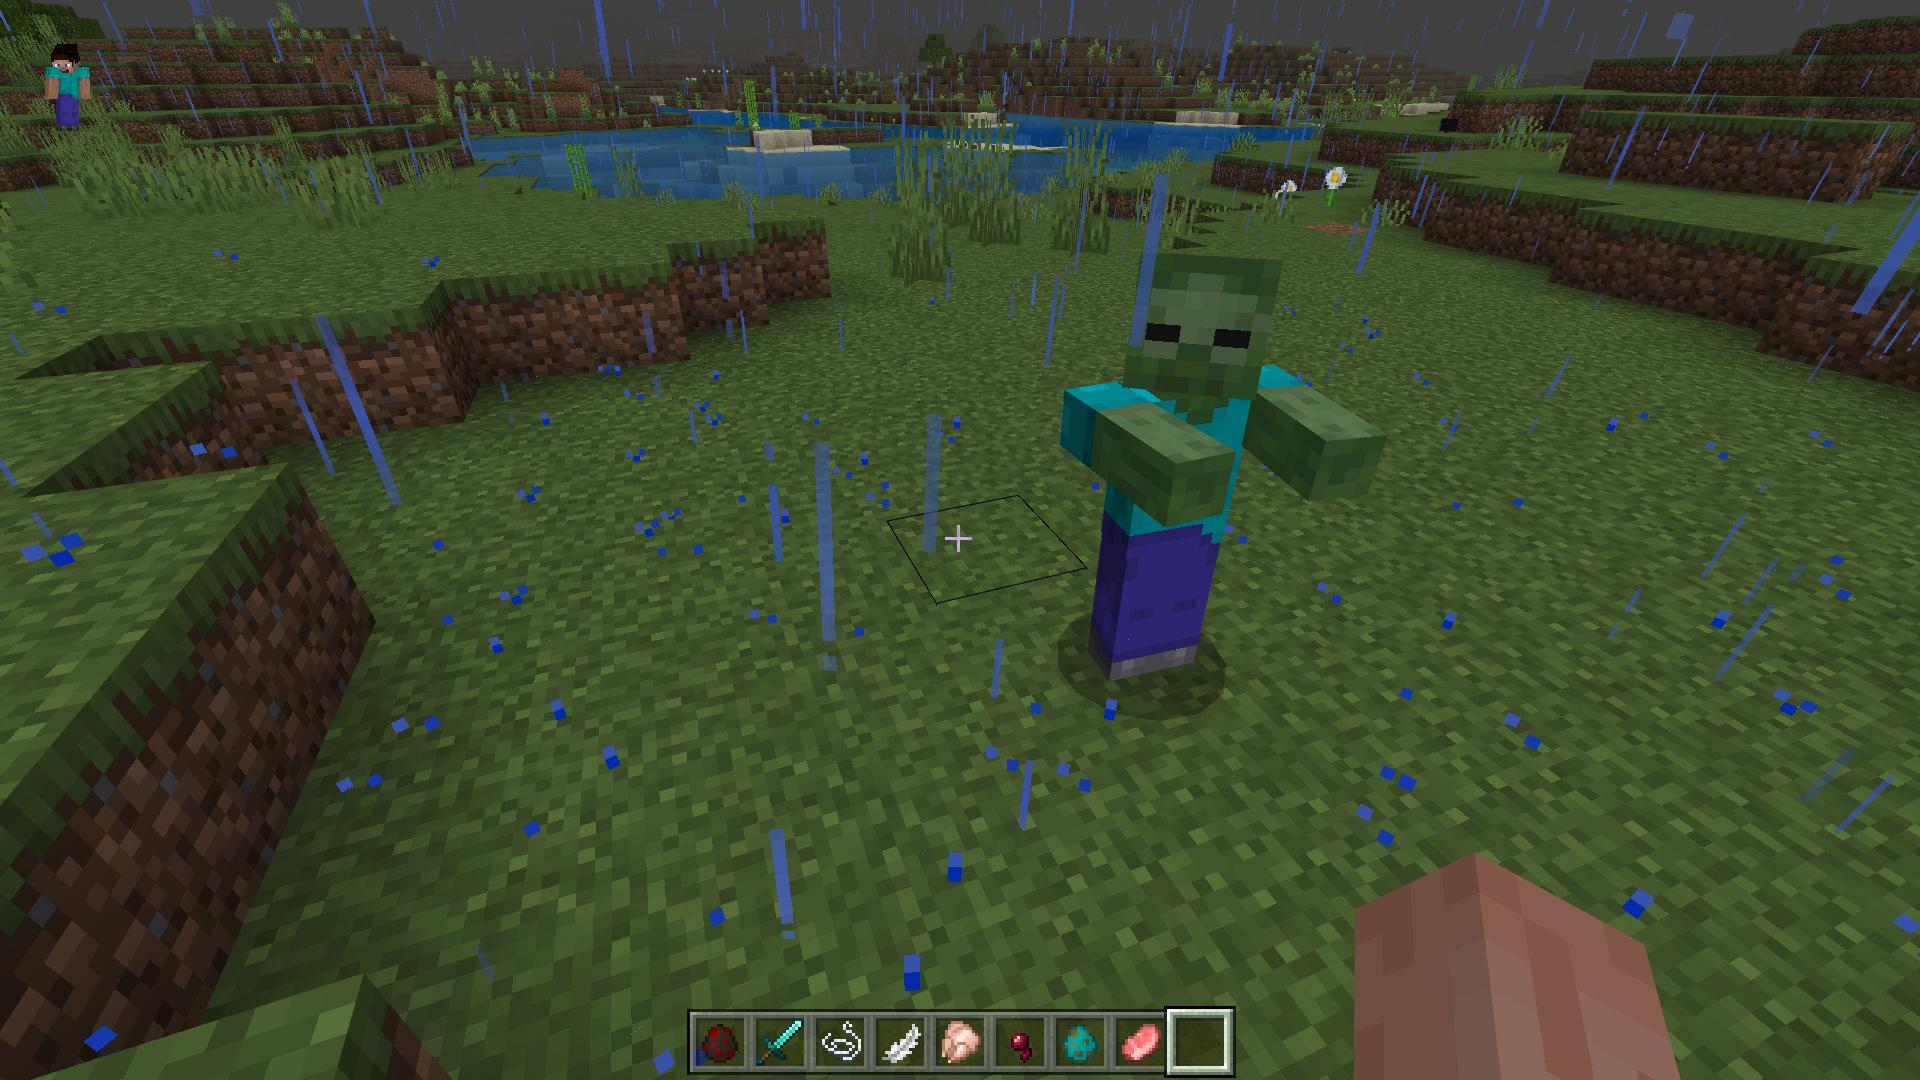zombie: (1060, 244, 1389, 684)
